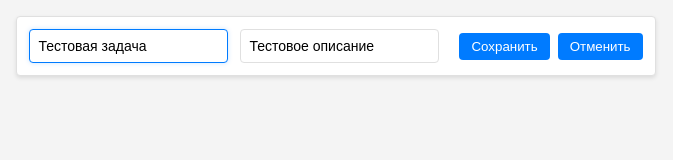
Test: Компонент ListItem › отменяет изменения при нажатии Escape
The width and height of the screenshot is (673, 160).
Replace the text in the 1st field showing "Тестовая задача" with "Обновленное имя" at point(129, 46), box [29, 29, 228, 63]
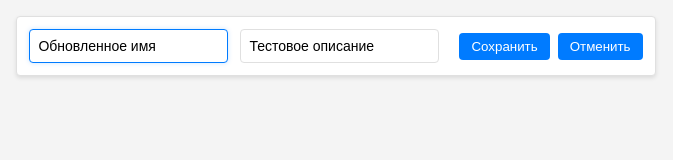
Press Escape in the 1st field showing "Обновленное имя", box [29, 29, 228, 63]
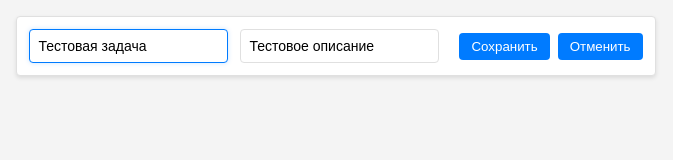
Check: the 2nd field showing "Тестовое описание" holds "Тестовое описание", box [240, 29, 439, 63]
Check: the 1st field showing "Тестовая задача" holds "Тестовая задача", box [29, 29, 228, 63]
